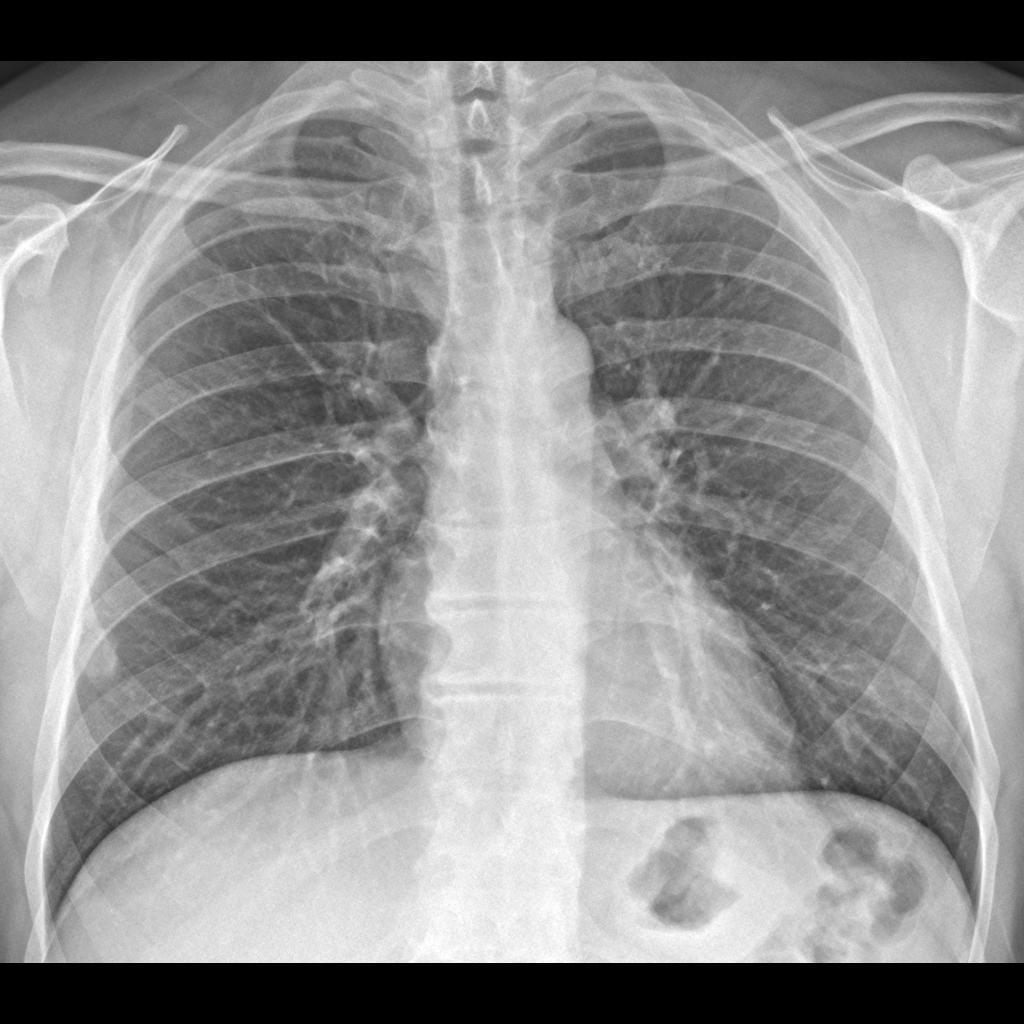Nodule: (72, 624, 128, 684)
